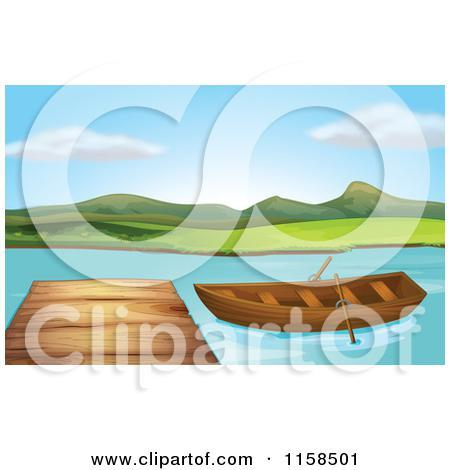boat: (188, 266, 429, 332)
